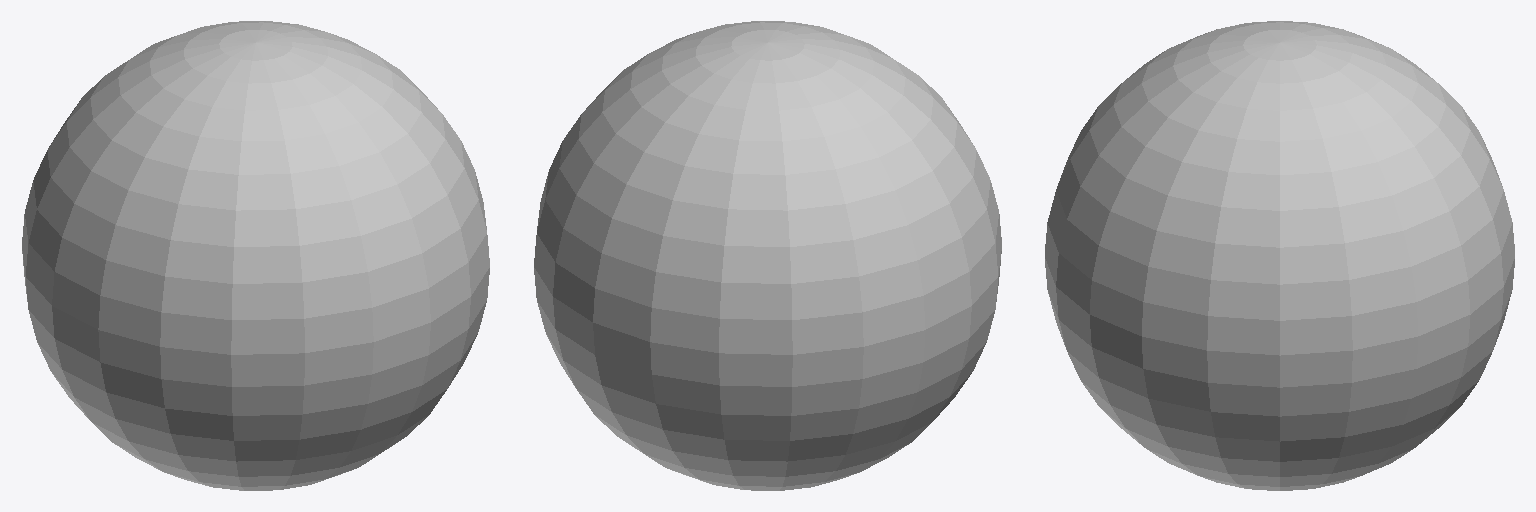
The model's file is Esfera2.obj.
3 views of the same model, side by side, from view 1: azimuth 30°, elevation 25°; view 2: azimuth 150°, elevation 25°; view 3: azimuth 270°, elevation 25° (orthographic).
Visible parts, largest first — view 1: Esfera_Specular1:pSphere1 group; view 2: Esfera_Specular1:pSphere1 group; view 3: Esfera_Specular1:pSphere1 group.
Part boxes in pixels (x1,y1,x2,y2): Esfera_Specular1:pSphere1 group: (22,21,489,490); Esfera_Specular1:pSphere1 group: (534,21,1001,490); Esfera_Specular1:pSphere1 group: (1045,21,1514,490).
Bounding box in the file's own units: 2 × 2 × 2.